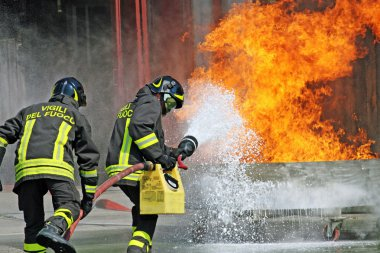fire: (260, 10, 373, 160), (199, 11, 253, 79)
